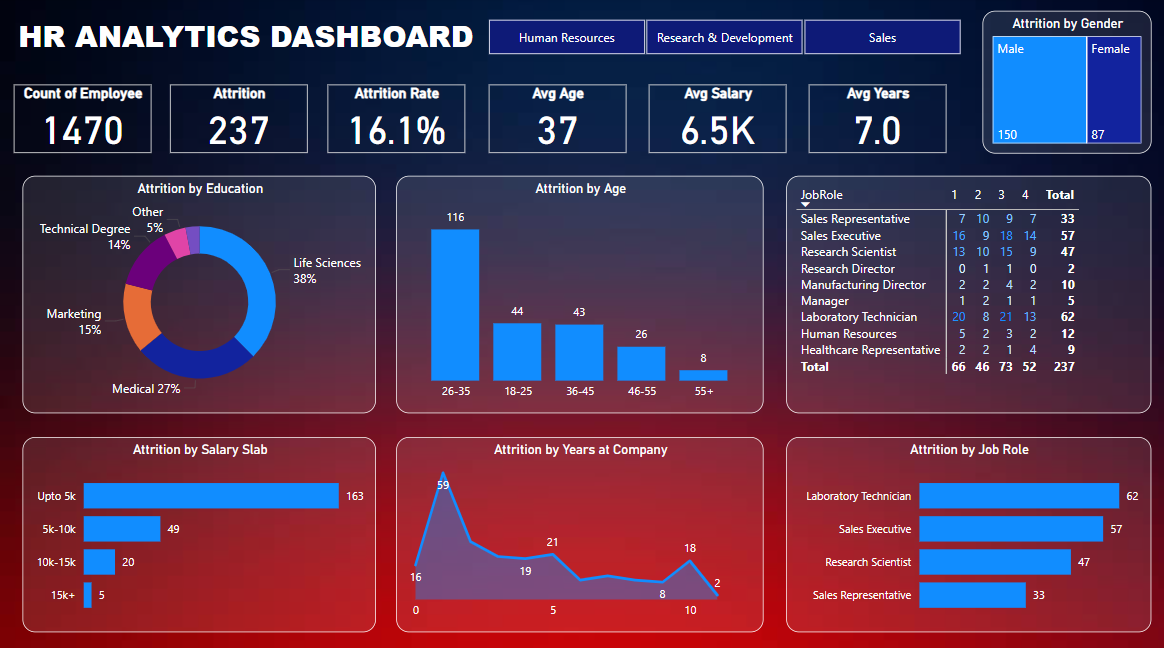

What the dashboard file says about the page in this screenshot:
{"tool":"powerbi","page":{"name":"Page 1","canvas":[1280,720],"ordinal":0},"visuals":[{"type":"card","title":"Count of Employee","fields":{"Values":["CountNonNull(HR_Analytics.EmpID)"]},"box":[15.1,96.1,150.9,75.5],"z":0},{"type":"card","title":"Attrition","fields":{"Values":["Sum(HR_Analytics.AttritionCount)"]},"box":[186.6,96.1,150.9,75.5],"z":1000},{"type":"card","title":"Attrition Rate","fields":{"Values":["HR_Analytics.AttritionRate"]},"box":[359.5,96.1,150.9,75.5],"z":2000},{"type":"card","title":"Avg Age","fields":{"Values":["Avg(HR_Analytics.Age)"]},"box":[536.5,96.1,150.9,75.5],"z":3000},{"type":"card","title":"Avg Salary","fields":{"Values":["Avg(HR_Analytics.MonthlyIncome)"]},"box":[712.2,96.1,150.9,75.5],"z":4000},{"type":"card","title":"Avg Years","fields":{"Values":["Avg(HR_Analytics.YearsAtCompany)"]},"box":[887.8,96.1,150.9,75.5],"z":5000},{"type":"donutChart","title":"Attrition by Education","fields":{"Category":["HR_Analytics.EducationField"],"Y":["Sum(HR_Analytics.AttritionCount)"]},"box":[24.7,196.2,388.3,260.7],"z":6000},{"type":"columnChart","title":"Attrition by Age","fields":{"Category":["HR_Analytics.AgeGroup"],"Y":["Sum(HR_Analytics.AttritionCount)"]},"box":[435,196.2,403.4,260.7],"z":7000},{"type":"pivotTable","fields":{"Rows":["HR_Analytics.JobRole"],"Columns":["HR_Analytics.JobSatisfaction"],"Values":["Sum(HR_Analytics.AttritionCount)"]},"box":[863.1,196.2,400.7,260.7],"z":8000},{"type":"barChart","title":"Attrition by Salary Slab","fields":{"Category":["HR_Analytics.SalarySlab"],"Y":["Sum(HR_Analytics.AttritionCount)"]},"box":[24.7,483,388.3,214.1],"z":9000},{"type":"areaChart","title":"Attrition by Years at Company","fields":{"Category":["HR_Analytics.YearsAtCompany"],"Y":["Sum(HR_Analytics.AttritionCount)"]},"box":[435,483,403.4,214.1],"z":10000},{"type":"treemap","title":"Attrition by Gender","fields":{"Group":["HR_Analytics.Gender"],"Values":["Sum(HR_Analytics.AttritionCount)"]},"box":[1078.6,15.1,185.2,156.4],"z":11000},{"type":"barChart","title":"Attrition by Job Role","fields":{"Category":["HR_Analytics.JobRole"],"Y":["Sum(HR_Analytics.AttritionCount)"]},"box":[863.1,483,400.7,214.1],"z":12000},{"type":"slicer","fields":{"Values":["HR_Analytics.Department"]},"box":[510.5,17.8,568.1,52.1],"z":13000},{"type":"textbox","box":[15.1,15.1,521.4,57.6],"z":14000}]}

Visuals, with their boxes in screenshot pixels (x1, y1, x2, y2), scaled from the page's 1280x720 canvas onto the 1164x648 screenshot:
"Count of Employee" card: rect(14, 86, 151, 154)
"Attrition" card: rect(170, 86, 307, 154)
"Attrition Rate" card: rect(327, 86, 464, 154)
"Avg Age" card: rect(488, 86, 625, 154)
"Avg Salary" card: rect(648, 86, 785, 154)
"Avg Years" card: rect(807, 86, 945, 154)
"Attrition by Education" donutChart: rect(22, 177, 376, 411)
"Attrition by Age" columnChart: rect(396, 177, 762, 411)
pivotTable - HR_Analytics.JobRole x HR_Analytics.JobSatisfaction: rect(785, 177, 1149, 411)
"Attrition by Salary Slab" barChart: rect(22, 435, 376, 627)
"Attrition by Years at Company" areaChart: rect(396, 435, 762, 627)
"Attrition by Gender" treemap: rect(981, 14, 1149, 154)
"Attrition by Job Role" barChart: rect(785, 435, 1149, 627)
slicer - HR_Analytics.Department: rect(464, 16, 981, 63)
textbox: rect(14, 14, 488, 65)
